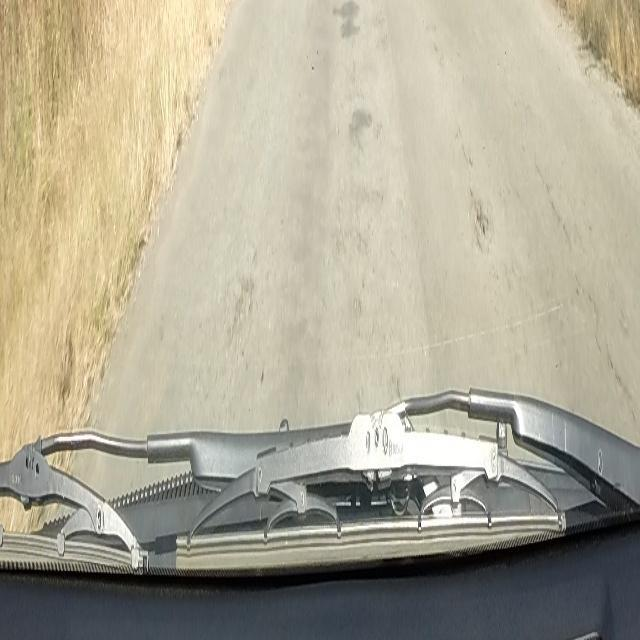pothole: (470, 192, 488, 240)
